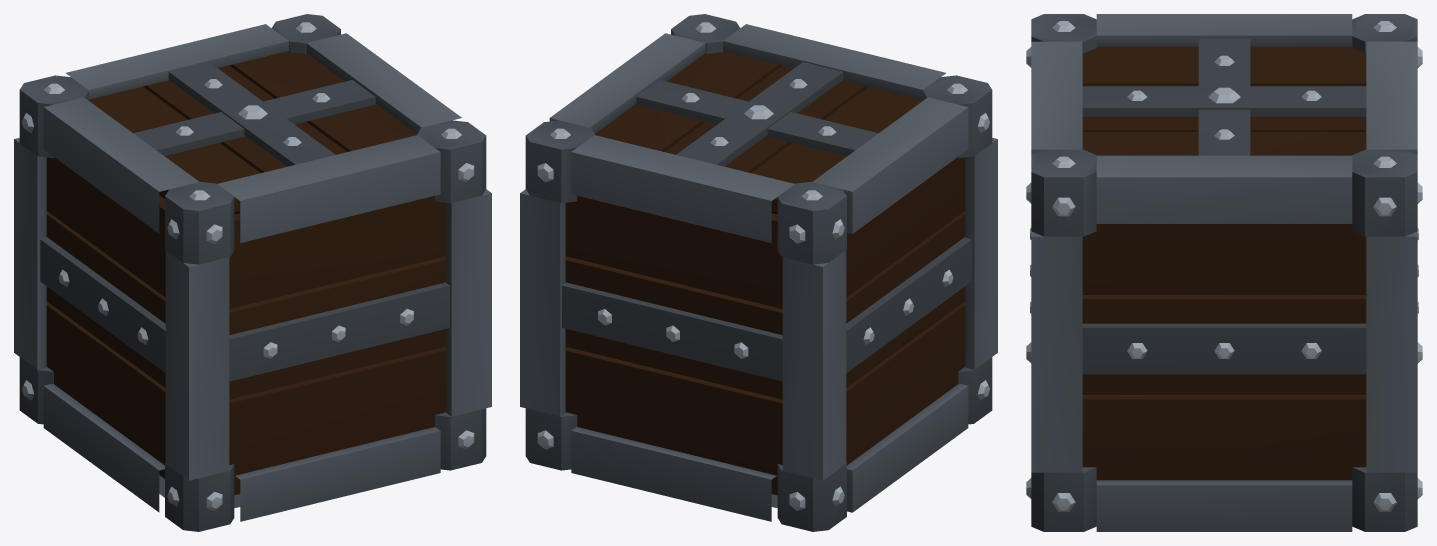
File: box_strong.glb
3 renders of one model, left to right at view 1: azimuth 30°, elevation 25°; view 2: azimuth 150°, elevation 25°; view 3: azimuth 270°, elevation 25°, orthographic. The views are drawn at different scales.
Parts seen in each view (by area): view 1: box_strong; view 2: box_strong; view 3: box_strong.
Boxes of the visible parts, x1,y1,x2,y2 form: box_strong: (14, 14, 491, 531); box_strong: (520, 14, 997, 531); box_strong: (1026, 14, 1422, 531).
Size of the model in its own units: 1 by 1 by 1.
